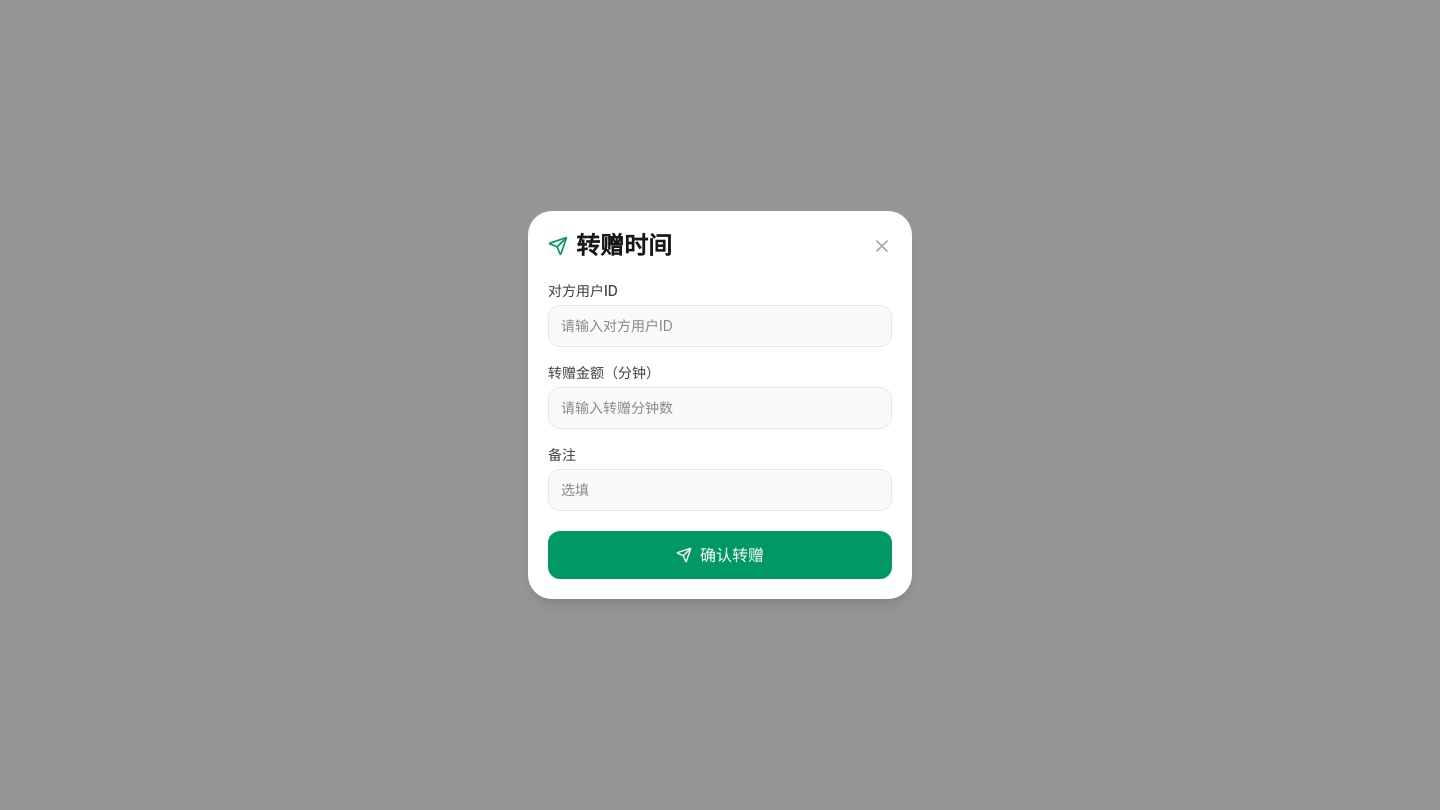
Test: TransferModal 转赠时间币弹窗 › 字段级校验 › 金额为负数时点击确认转赠校验失败
Type "user-99" into the field with placeholder "请输入对方用户ID" at (720, 326), box [548, 305, 892, 347]
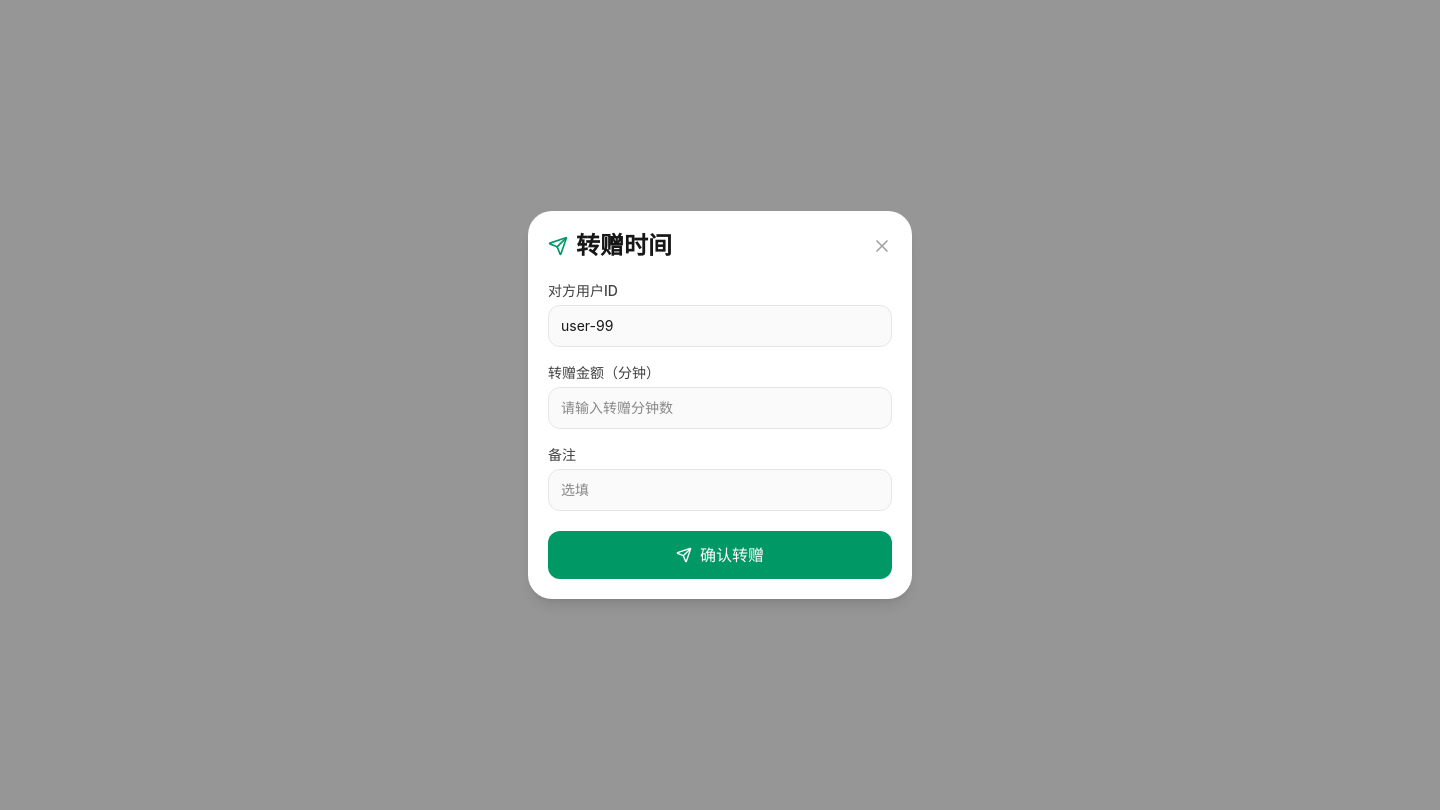
Type "-5" into the number field with placeholder "请输入转赠分钟数" at (720, 408), box [548, 387, 892, 429]
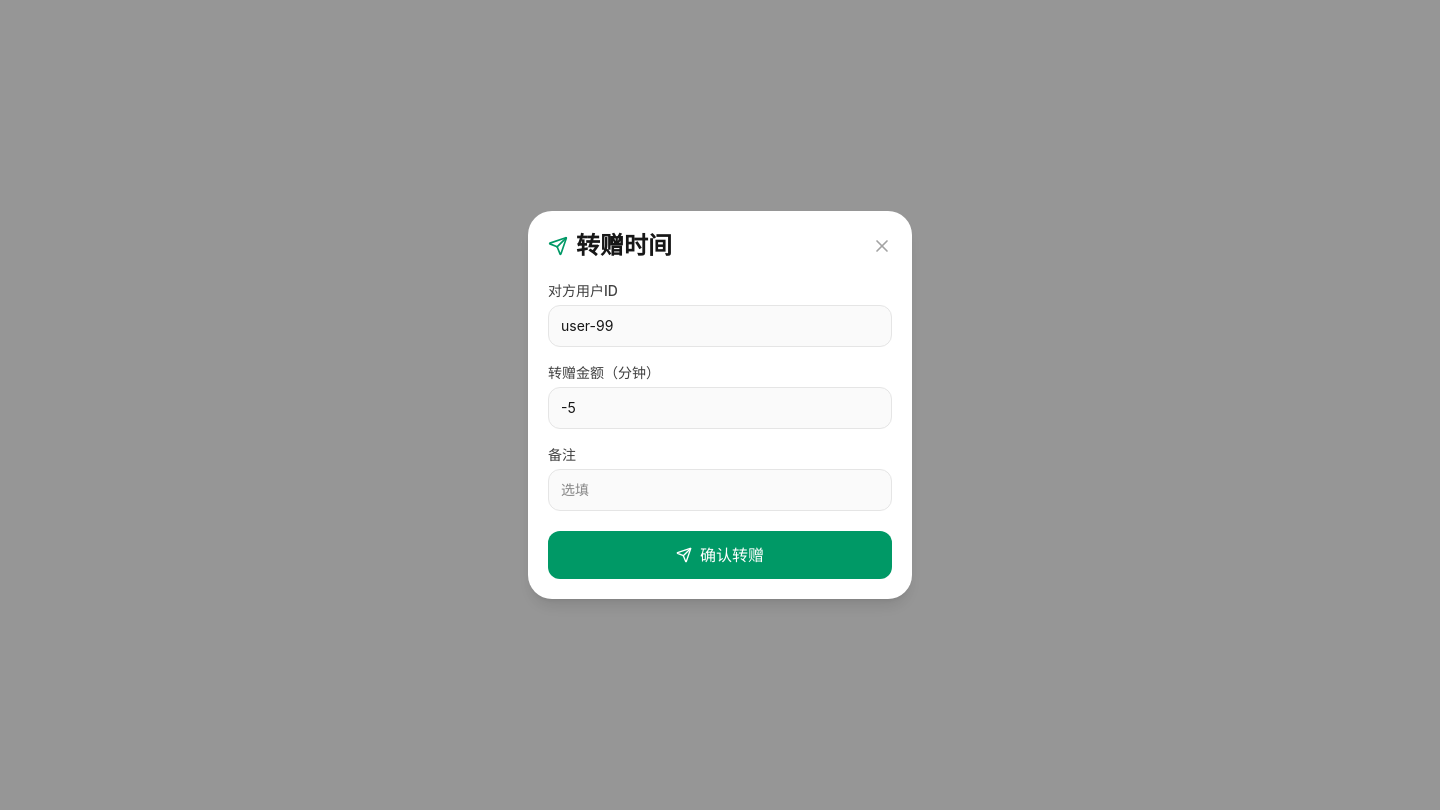
Type "感谢帮忙" into the field with placeholder "选填" at (720, 490), box [548, 469, 892, 511]
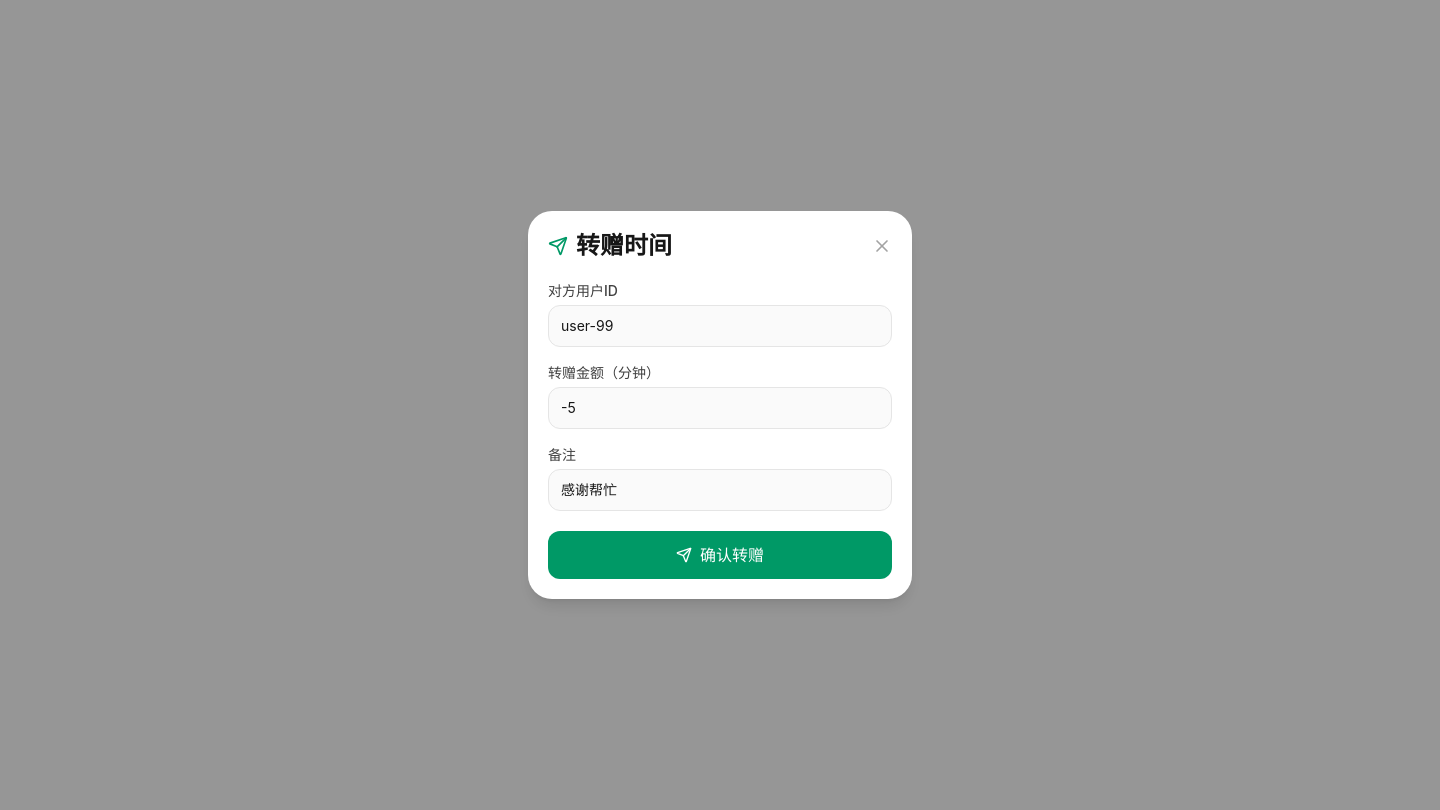
Click the button "确认转赠" at (720, 555), box [548, 531, 892, 579]
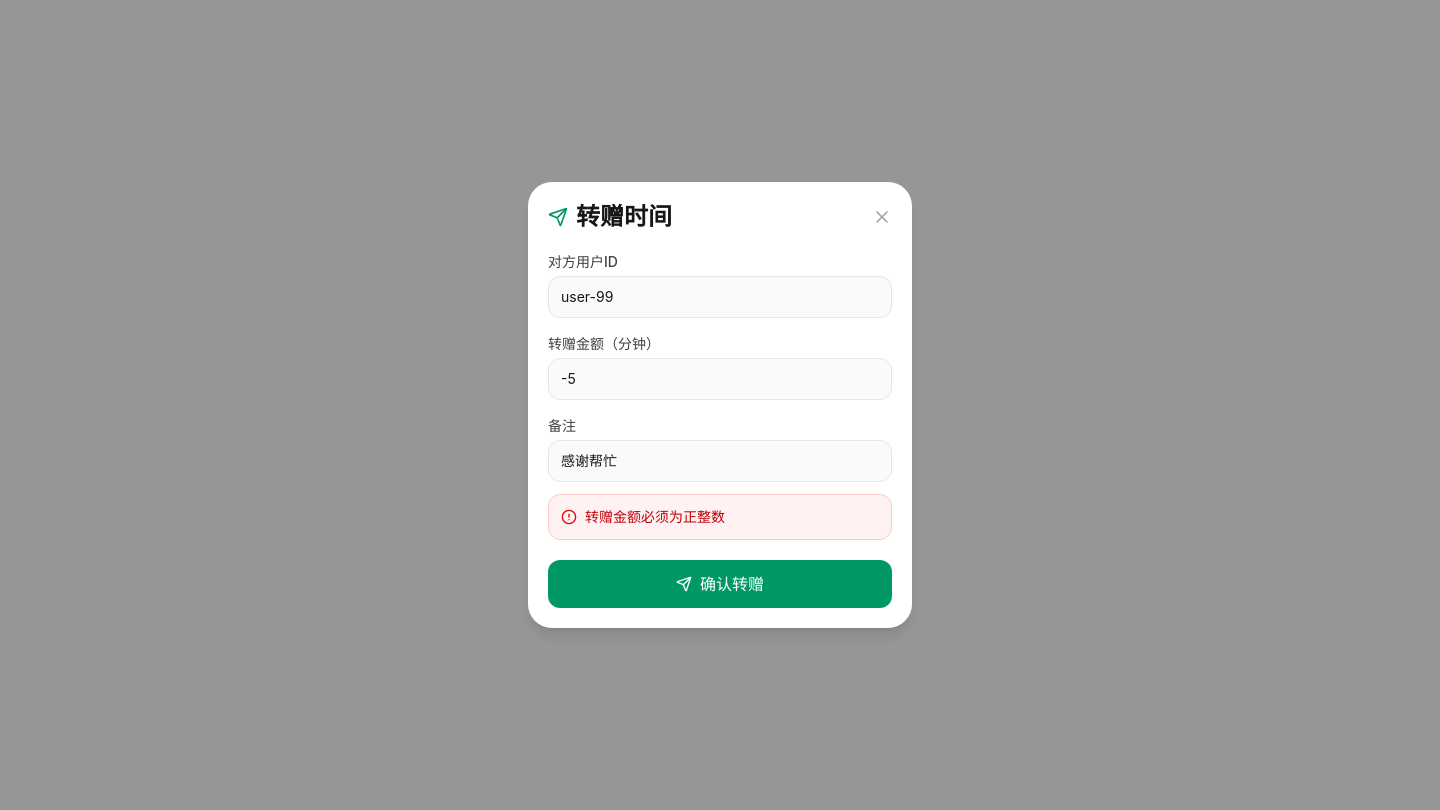
Expected: the text "转赠金额必须为正整数" is shown, [585, 507, 725, 527]
